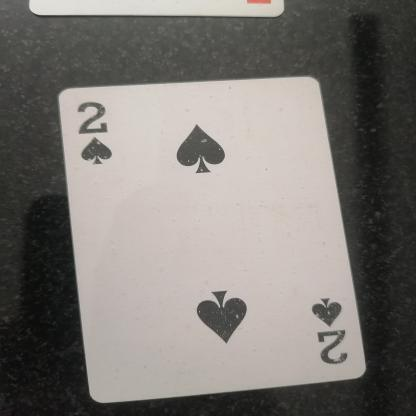2S: (293, 294, 359, 374), (71, 99, 127, 171)
